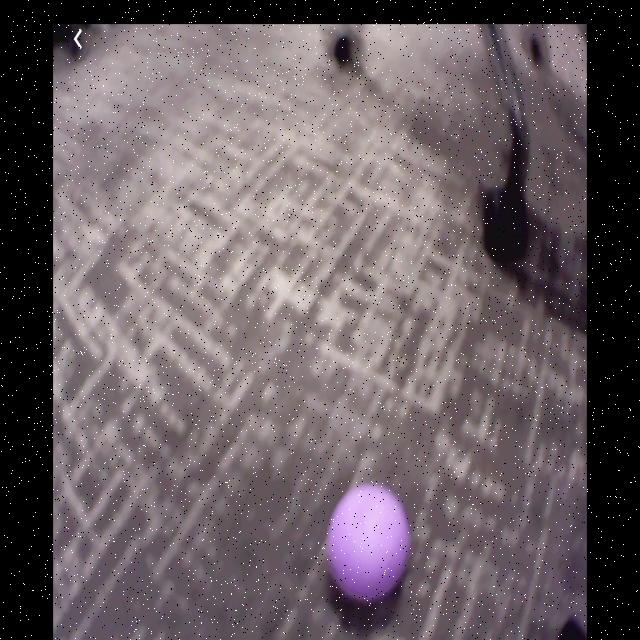ball: (331, 486, 409, 597)
